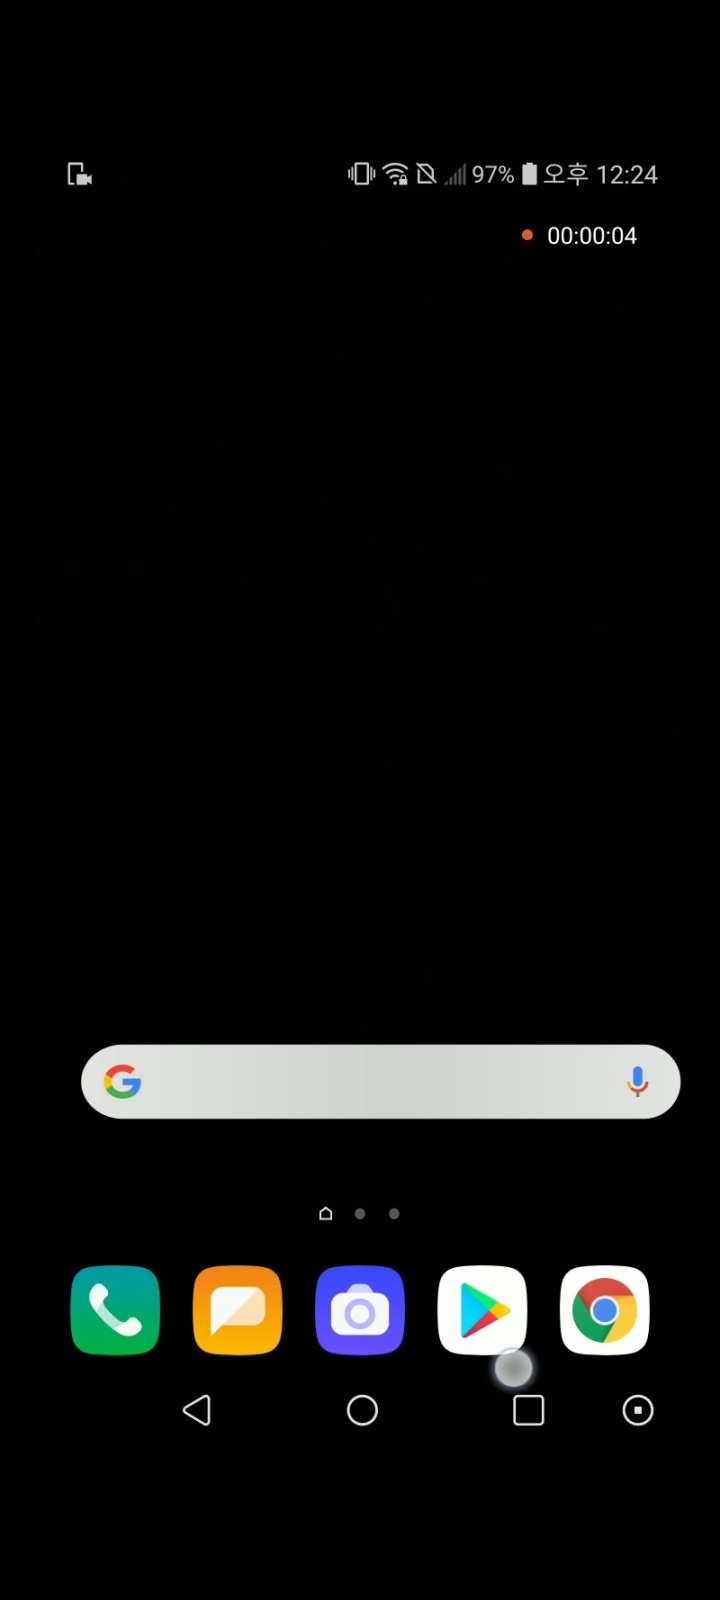Cursor: (491, 1346, 536, 1391)
